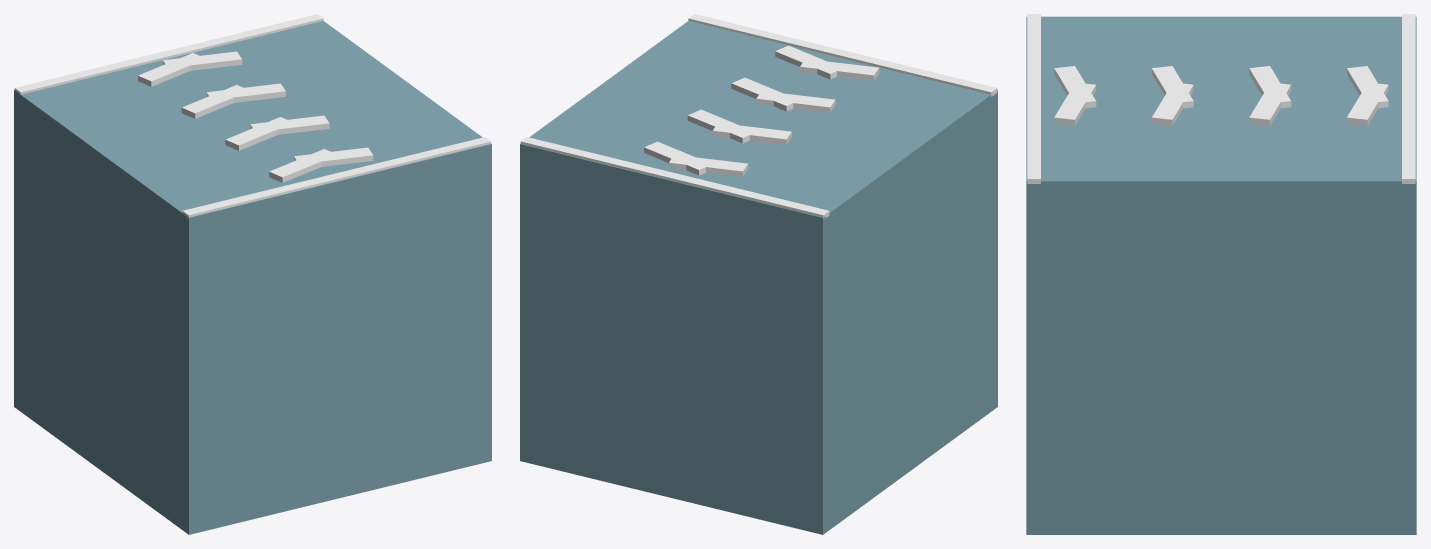
Rendered from ThinConveyor_Full.glb.
The picture shows the model from 3 angles, left to right: view 1: azimuth 30°, elevation 25°; view 2: azimuth 150°, elevation 25°; view 3: azimuth 270°, elevation 25°; orthographic projection. The views are drawn at different scales.
Parts seen in each view (by area): view 1: ThinConveyor_Full_body, rail_-0.005, rail_0.005, chev_0_1.005, chev_3_1.005, chev_1_1.005, chev_2_1.005, chev_1_-1.005, chev_2_-1.005, chev_0_-1.005, chev_3_-1.005; view 2: ThinConveyor_Full_body, rail_-0.005, rail_0.005, chev_2_1.005, chev_0_1.005, chev_3_1.005, chev_1_-1.005, chev_1_1.005, chev_0_-1.005, chev_2_-1.005, chev_3_-1.005; view 3: ThinConveyor_Full_body, rail_0.005, rail_-0.005, chev_2_-1.005, chev_3_-1.005, chev_1_-1.005, chev_0_-1.005, chev_1_1.005, chev_0_1.005, chev_3_1.005, chev_2_1.005.
Boxes of the visible parts, left/top/right/bottom form: ThinConveyor_Full_body: left=14, top=21, right=491, bottom=534; rail_-0.005: left=182, top=137, right=491, bottom=219; rail_0.005: left=14, top=14, right=323, bottom=94; chev_0_1.005: left=269, top=149, right=336, bottom=182; chev_3_1.005: left=138, top=53, right=205, bottom=86; chev_1_1.005: left=225, top=117, right=293, bottom=150; chev_2_1.005: left=181, top=85, right=243, bottom=118; chev_1_-1.005: left=250, top=115, right=329, bottom=134; chev_2_-1.005: left=206, top=83, right=285, bottom=102; chev_0_-1.005: left=294, top=147, right=373, bottom=166; chev_3_-1.005: left=163, top=51, right=242, bottom=70; ThinConveyor_Full_body: left=520, top=21, right=997, bottom=534; rail_-0.005: left=688, top=14, right=997, bottom=96; rail_0.005: left=520, top=137, right=829, bottom=219; chev_2_1.005: left=712, top=123, right=791, bottom=144; chev_0_1.005: left=800, top=59, right=879, bottom=80; chev_3_1.005: left=669, top=155, right=748, bottom=176; chev_1_-1.005: left=731, top=77, right=799, bottom=111; chev_1_1.005: left=756, top=93, right=835, bottom=112; chev_0_-1.005: left=775, top=45, right=836, bottom=79; chev_2_-1.005: left=687, top=109, right=749, bottom=143; chev_3_-1.005: left=644, top=141, right=705, bottom=175; ThinConveyor_Full_body: left=1026, top=16, right=1416, bottom=534; rail_0.005: left=1402, top=14, right=1415, bottom=183; rail_-0.005: left=1027, top=14, right=1040, bottom=183; chev_2_-1.005: left=1249, top=82, right=1291, bottom=125; chev_3_-1.005: left=1346, top=83, right=1388, bottom=125; chev_1_-1.005: left=1151, top=82, right=1193, bottom=125; chev_0_-1.005: left=1054, top=82, right=1096, bottom=125; chev_1_1.005: left=1151, top=66, right=1193, bottom=108; chev_0_1.005: left=1054, top=66, right=1096, bottom=108; chev_3_1.005: left=1346, top=66, right=1388, bottom=108; chev_2_1.005: left=1249, top=66, right=1291, bottom=108.
Bounding box in the file's own units: 1 × 1.02 × 1.
